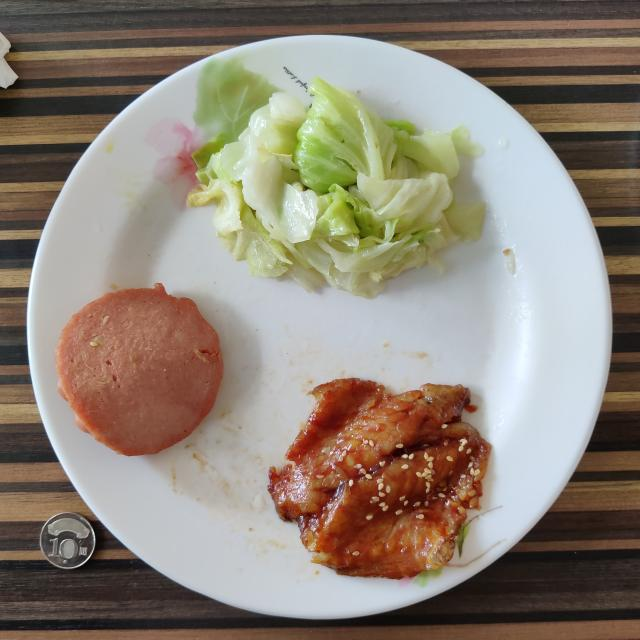Kabayaki sea bream fillet: (268, 379, 491, 579)
Spam: (55, 284, 222, 456)
cabbage: (188, 78, 485, 298)
coin: (40, 512, 95, 569)
